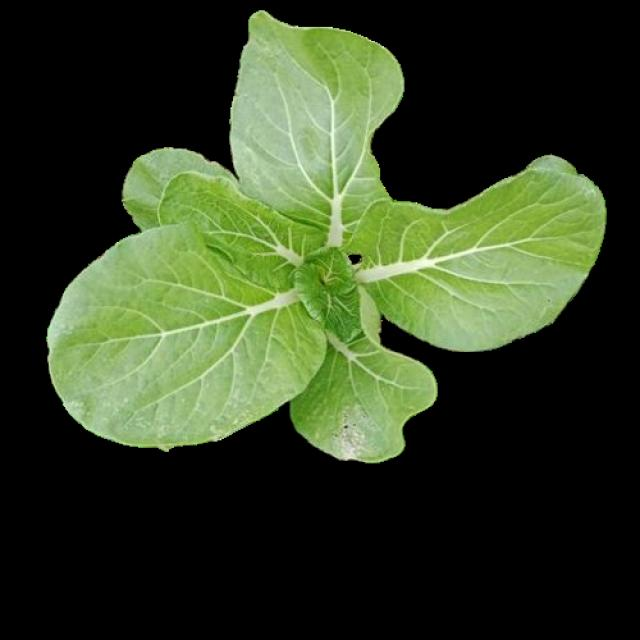not-mature: (47, 10, 608, 461)
unhealthy: (47, 224, 325, 445), (358, 155, 604, 348), (232, 13, 400, 251), (156, 170, 325, 290), (290, 343, 436, 463)
